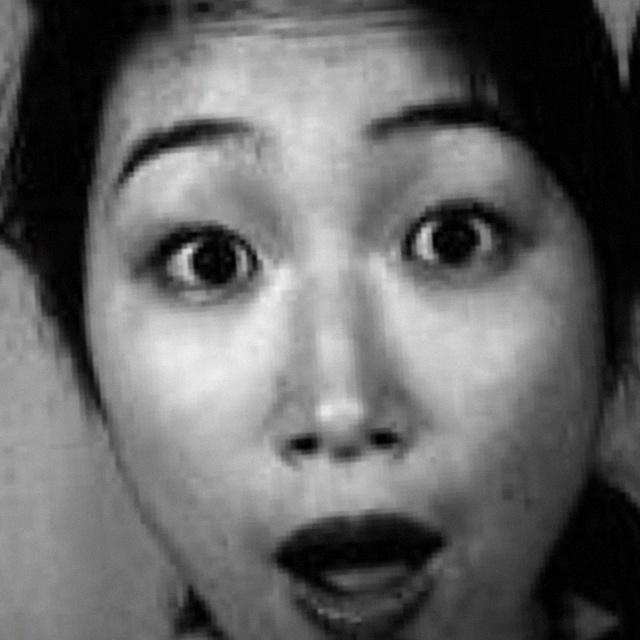surprise: (73, 41, 567, 640)
